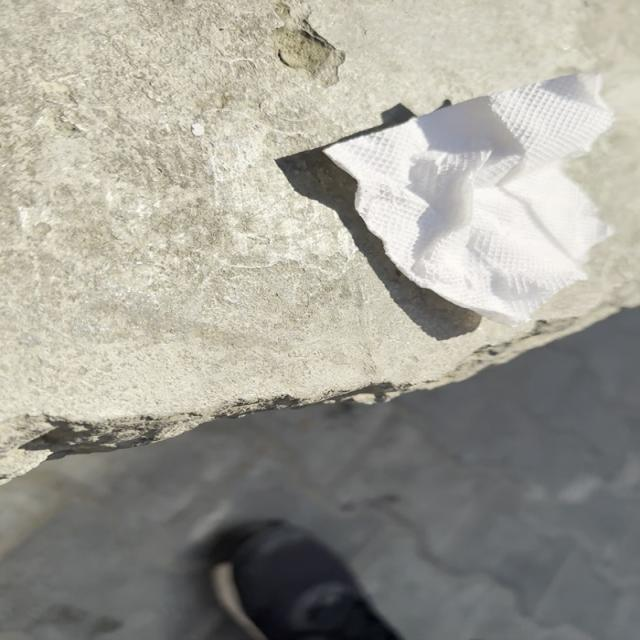tissue: (320, 70, 626, 327)
